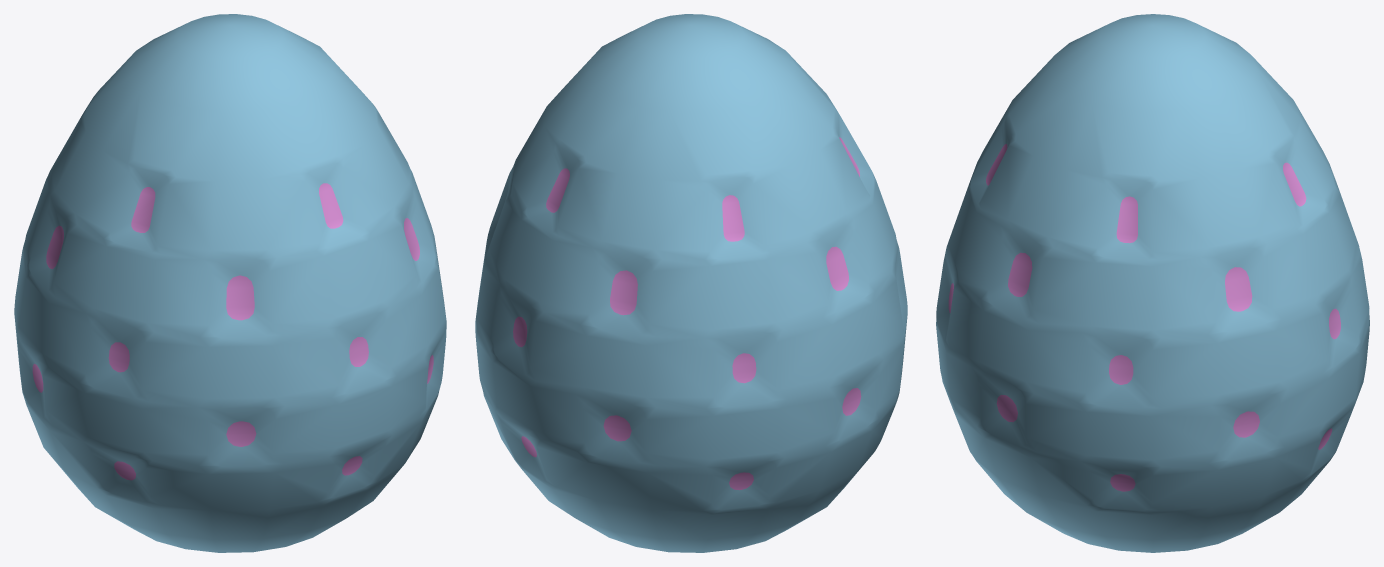
Rendered from egg_spotty.gltf.
3 views of the same model, side by side, from view 1: azimuth 30°, elevation 25°; view 2: azimuth 150°, elevation 25°; view 3: azimuth 270°, elevation 25° (orthographic).
Parts seen in each view (by area): view 1: Egg Spotty; view 2: Egg Spotty; view 3: Egg Spotty.
Boxes of the visible parts, box(x1,y1,x2,y2) form: Egg Spotty: box(14, 14, 446, 552); Egg Spotty: box(475, 14, 907, 552); Egg Spotty: box(936, 14, 1369, 552).
Size of the model in its own units: 1.39 by 1.8 by 1.39.
